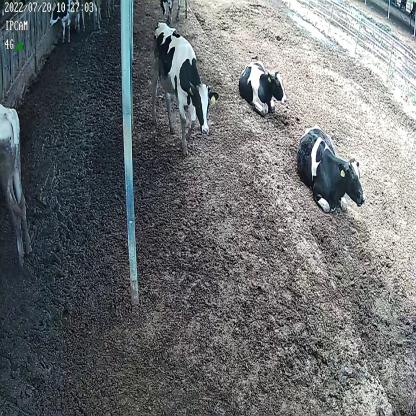cow: (149, 16, 220, 153), (294, 118, 367, 216), (237, 55, 287, 119), (47, 0, 87, 41)
